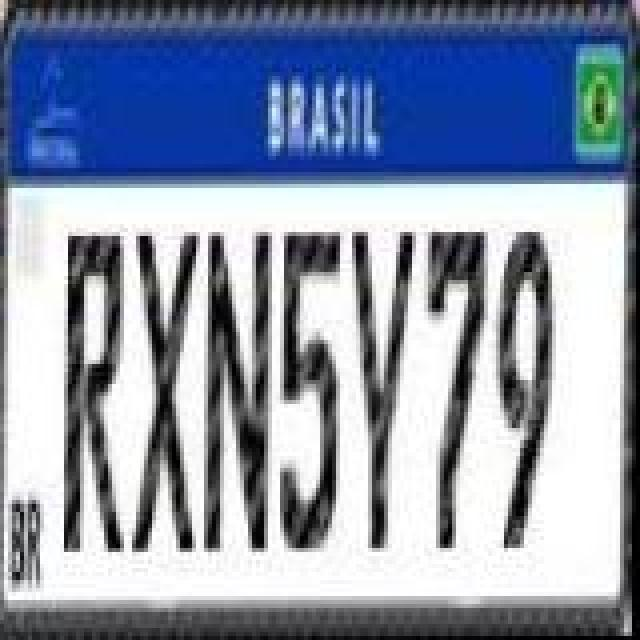5: (280, 224, 344, 548)
7: (424, 228, 488, 552)
9: (490, 220, 558, 556)
N: (204, 228, 276, 552)
R: (66, 230, 134, 554)
X: (132, 222, 204, 558)
Y: (350, 228, 418, 552)
